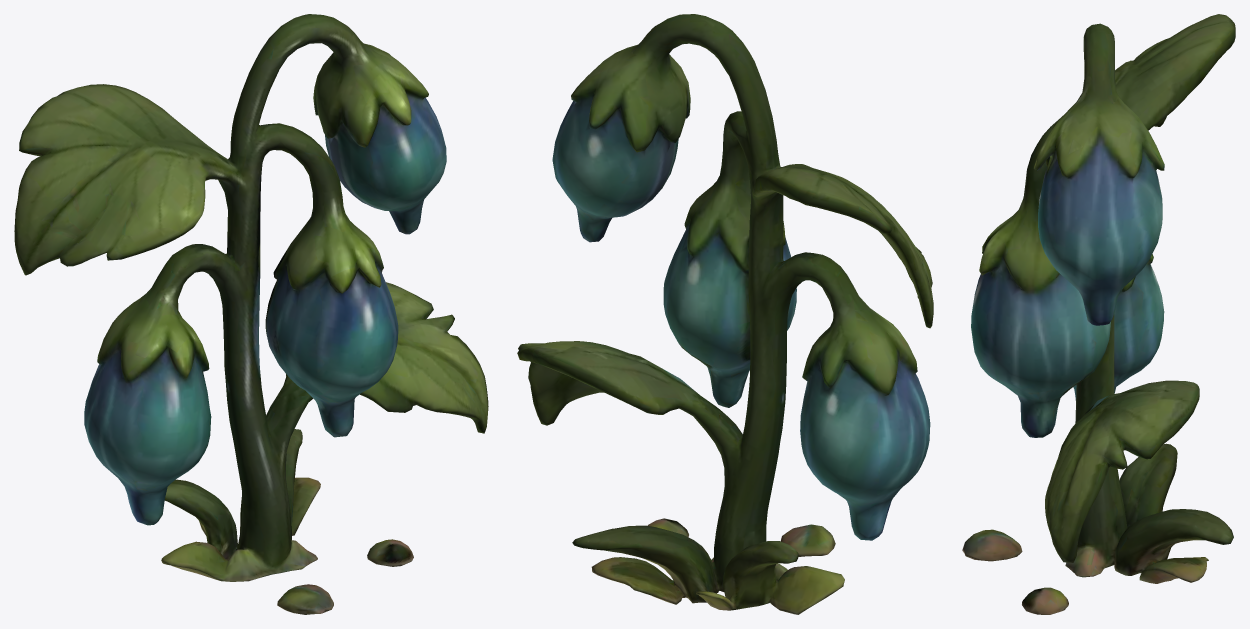
The picture shows the model from 3 angles, left to right: view 1: azimuth 30°, elevation 25°; view 2: azimuth 150°, elevation 25°; view 3: azimuth 270°, elevation 25°; orthographic projection. The views are drawn at different scales.
Visible parts, largest first — view 1: Mesh1.0; view 2: Mesh1.0; view 3: Mesh1.0.
Boxes of the visible parts, box(x1,y1,x2,y2) form: Mesh1.0: box(14, 14, 488, 614); Mesh1.0: box(517, 14, 933, 614); Mesh1.0: box(962, 14, 1235, 614).
Size of the model in its own units: 1.6 by 1.91 by 0.8666.
Materials: 1 (1 with a texture image).
